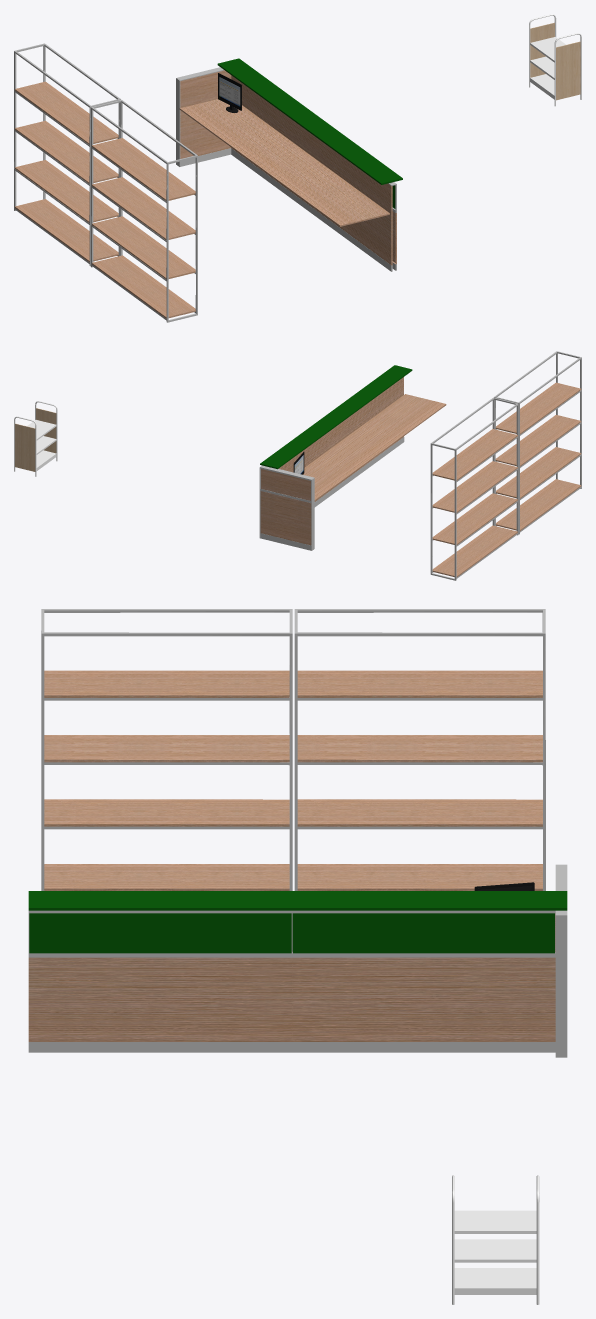
Rendered from Counter.fbx.
3 views of the same model, one above another, from view 1: azimuth 30°, elevation 25°; view 2: azimuth 150°, elevation 25°; view 3: azimuth 270°, elevation 25° (orthographic). The views are drawn at different scales.
Visible parts, largest first — view 1: Counter; view 2: Counter; view 3: Counter.
Part boxes in pixels (<box>): Counter: <box>14,14,581,322</box>; Counter: <box>14,351,581,580</box>; Counter: <box>28,609,567,1304</box>.
Bounding box in the file's own units: 8.4 × 2.38 × 4.42.
